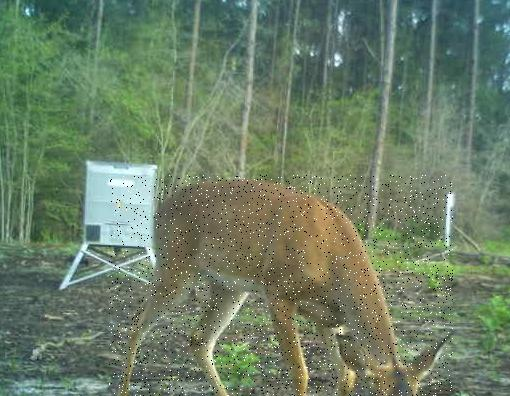Deer: (109, 175, 453, 396)
